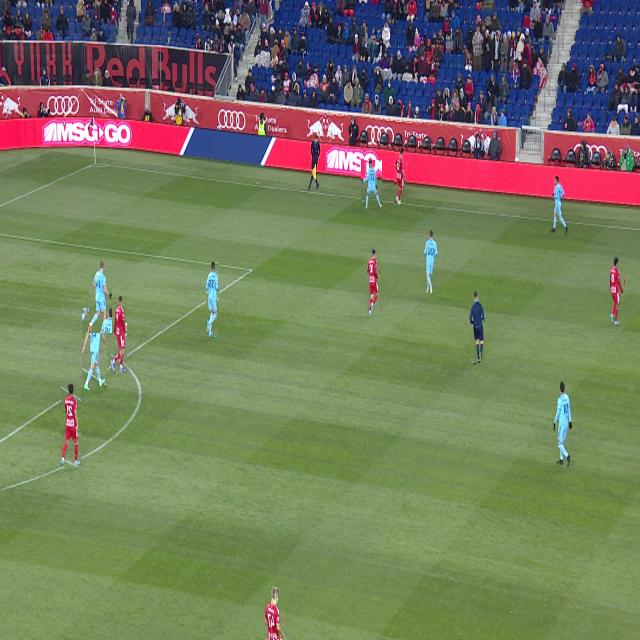player: (82, 309, 107, 391), (61, 384, 81, 467), (90, 262, 112, 333), (554, 382, 572, 467), (111, 297, 127, 372), (550, 176, 568, 236), (265, 589, 285, 640), (361, 161, 382, 209), (610, 257, 624, 325), (206, 263, 219, 336), (424, 230, 438, 294), (368, 251, 379, 315), (395, 149, 406, 206), (98, 332, 100, 336)
referee: (470, 291, 484, 363)
